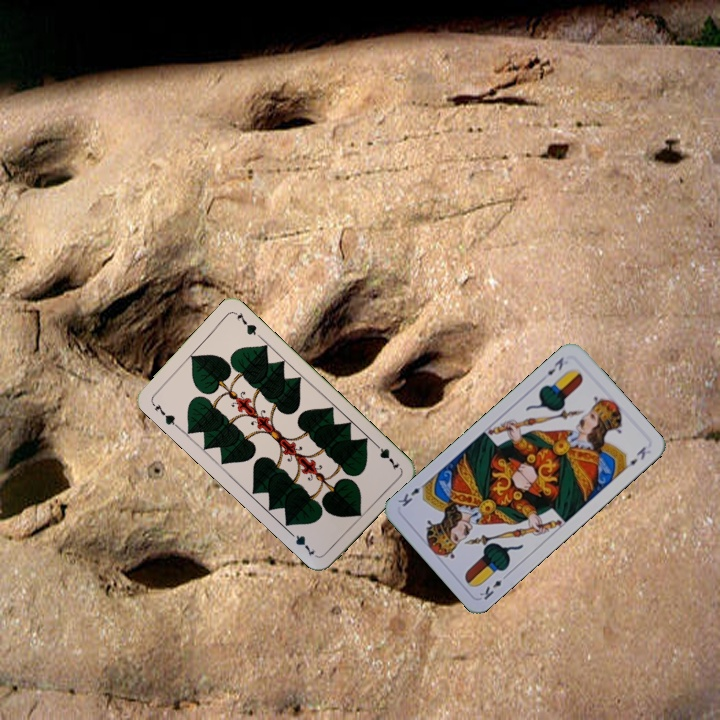EK: (475, 570, 511, 602), (543, 353, 566, 378)
G7: (369, 438, 402, 472), (148, 398, 181, 430)
